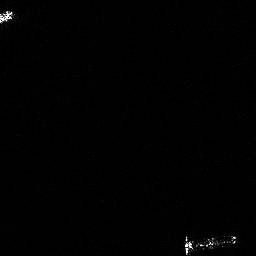ship: (180, 231, 242, 256)
